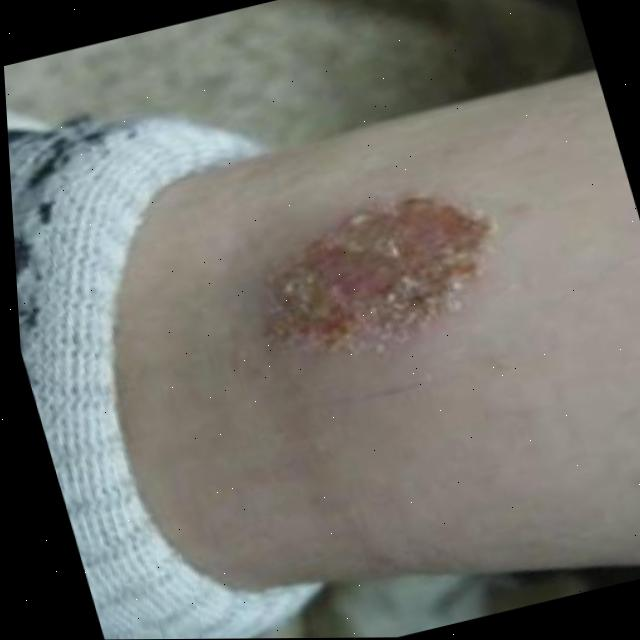Eczema: (259, 181, 517, 347)
